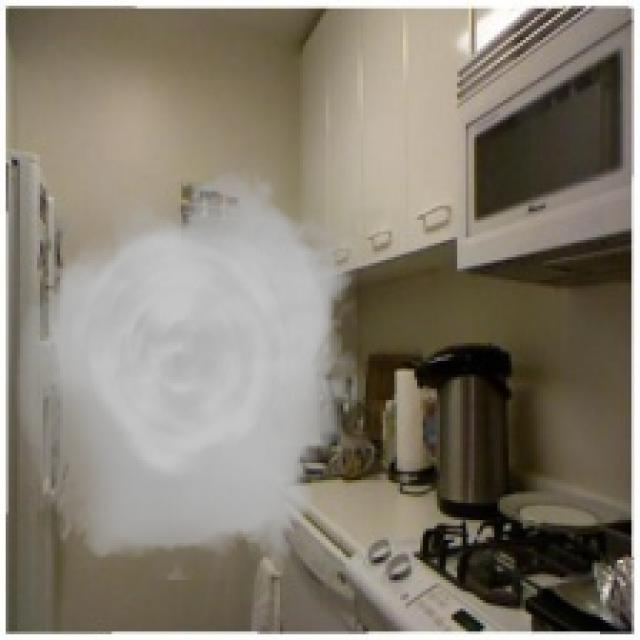smoke: (14, 157, 357, 580)
